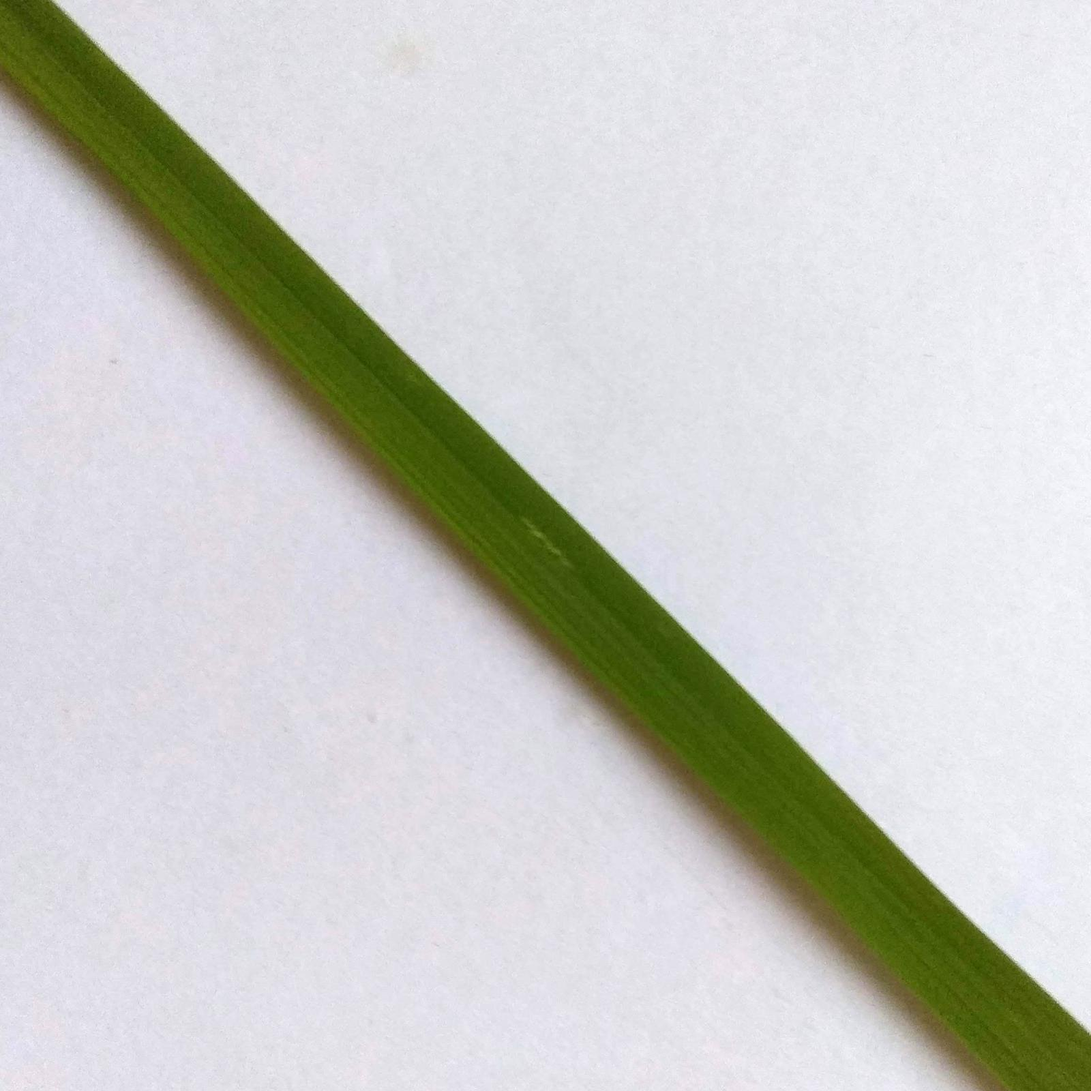Healthy: (0, 1, 1090, 1090)
